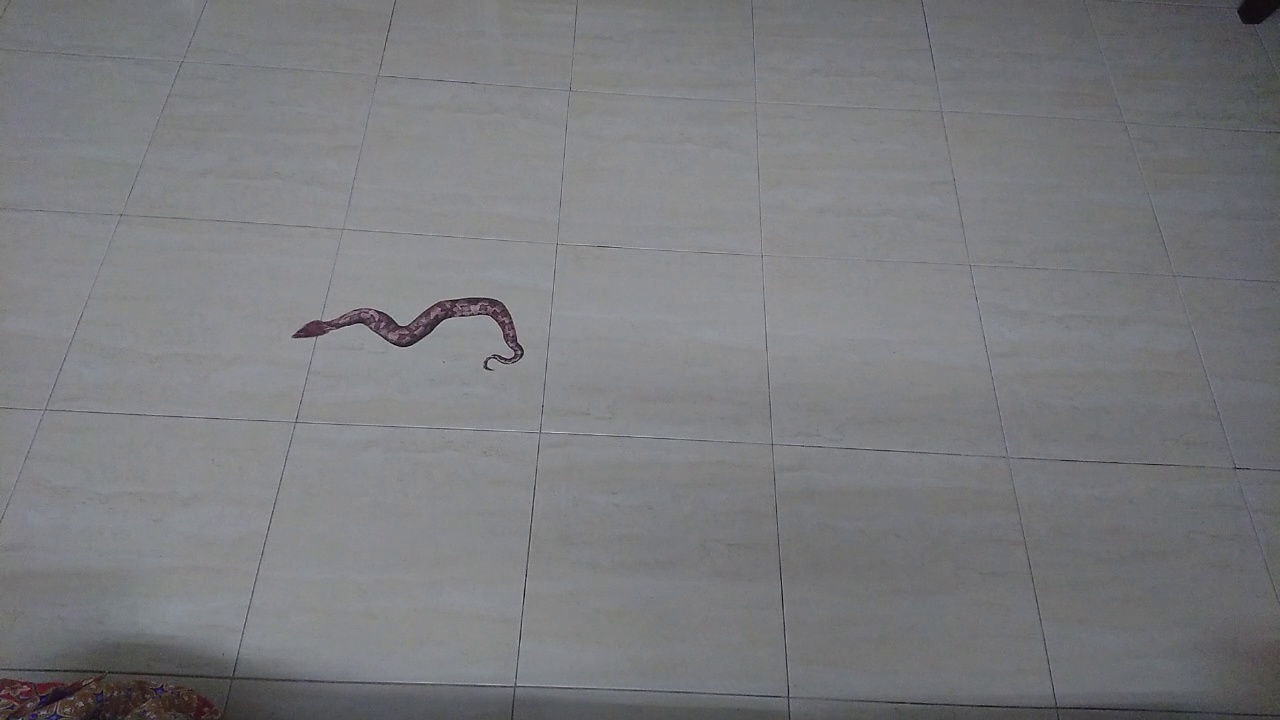snake: (273, 279, 543, 389)
